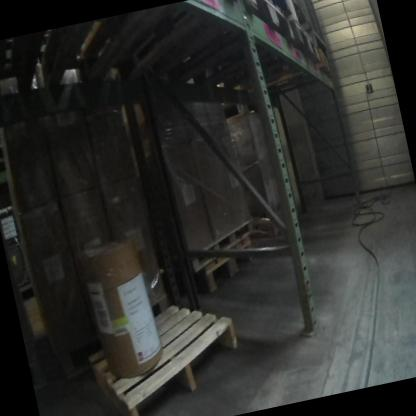pallet: (73, 278, 256, 416), (58, 0, 246, 111), (133, 0, 303, 99), (41, 283, 180, 385), (204, 13, 330, 106), (233, 44, 341, 112), (187, 234, 268, 297)
stillage: (0, 198, 40, 306), (290, 0, 338, 57)
